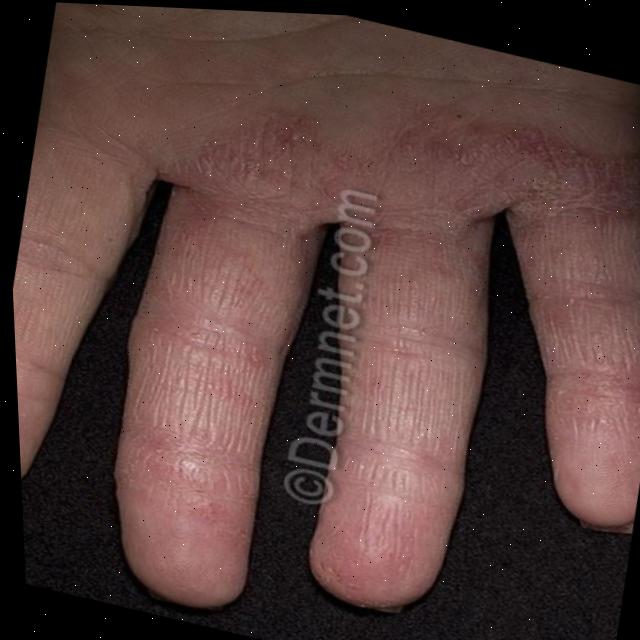Eczema: (169, 38, 640, 310)
